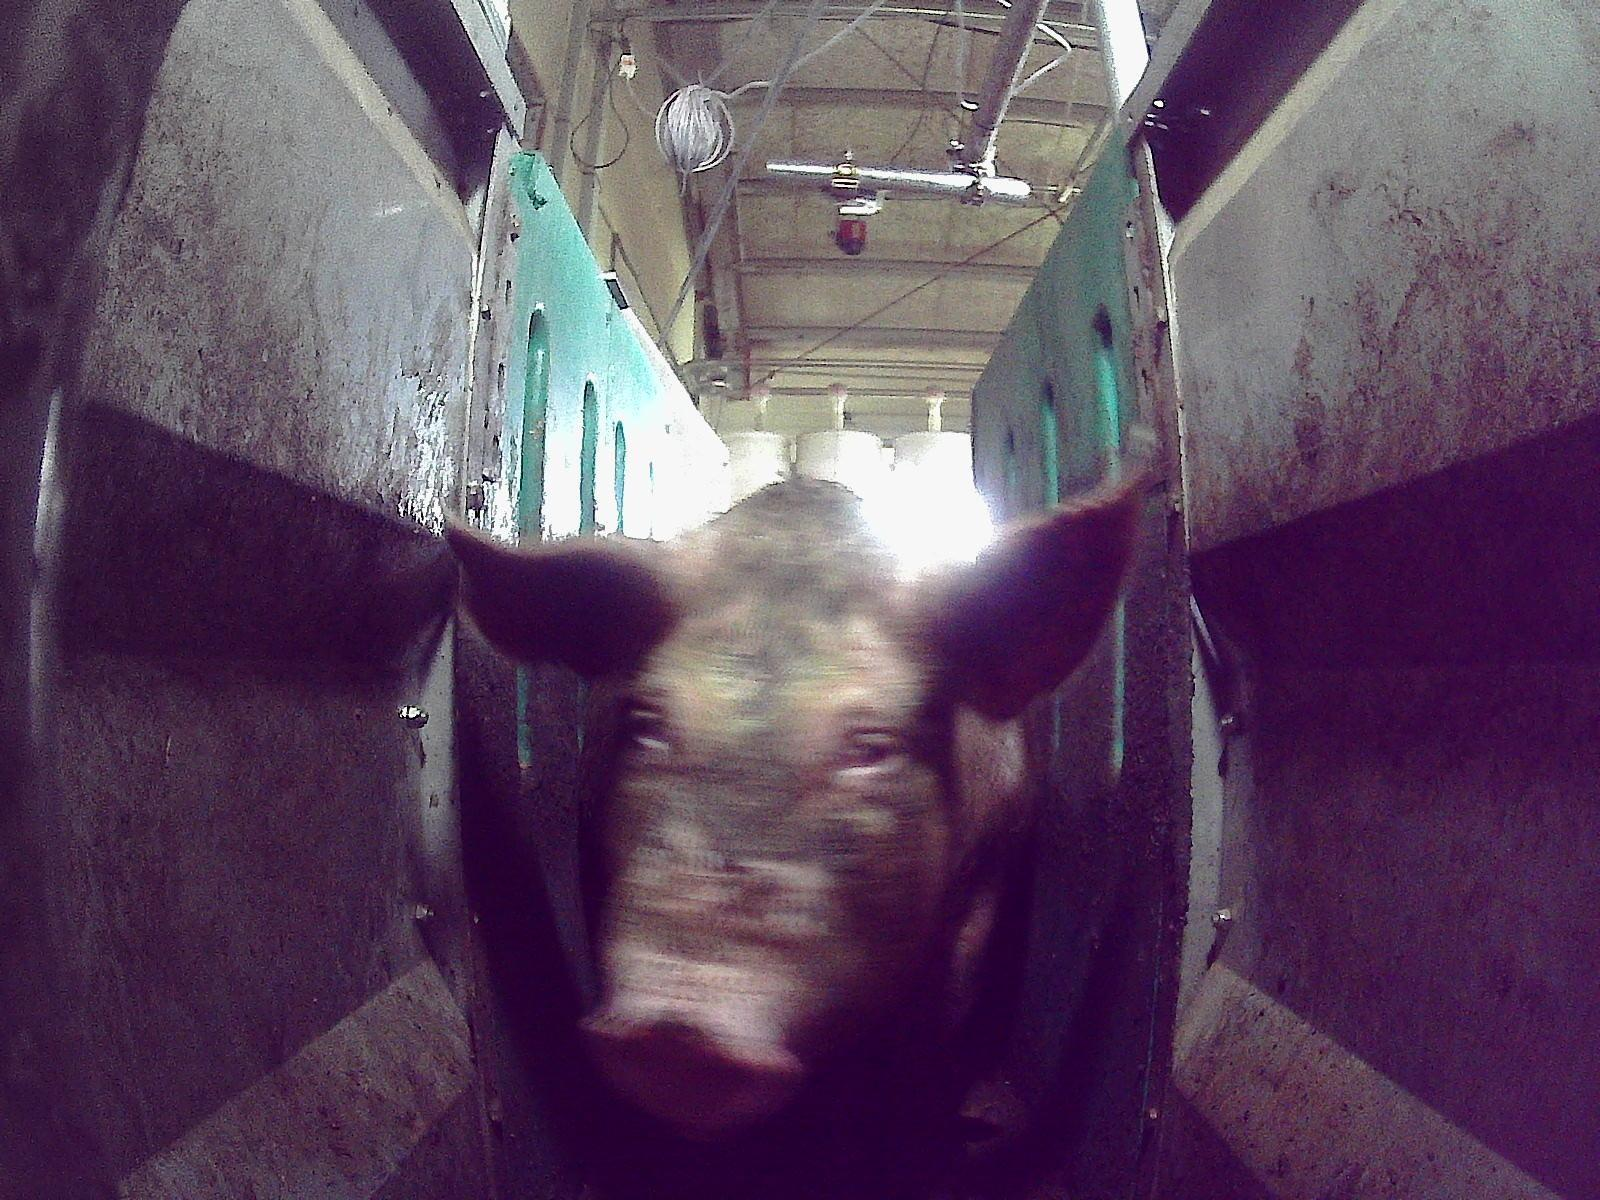Face: (564, 551, 985, 1146)
